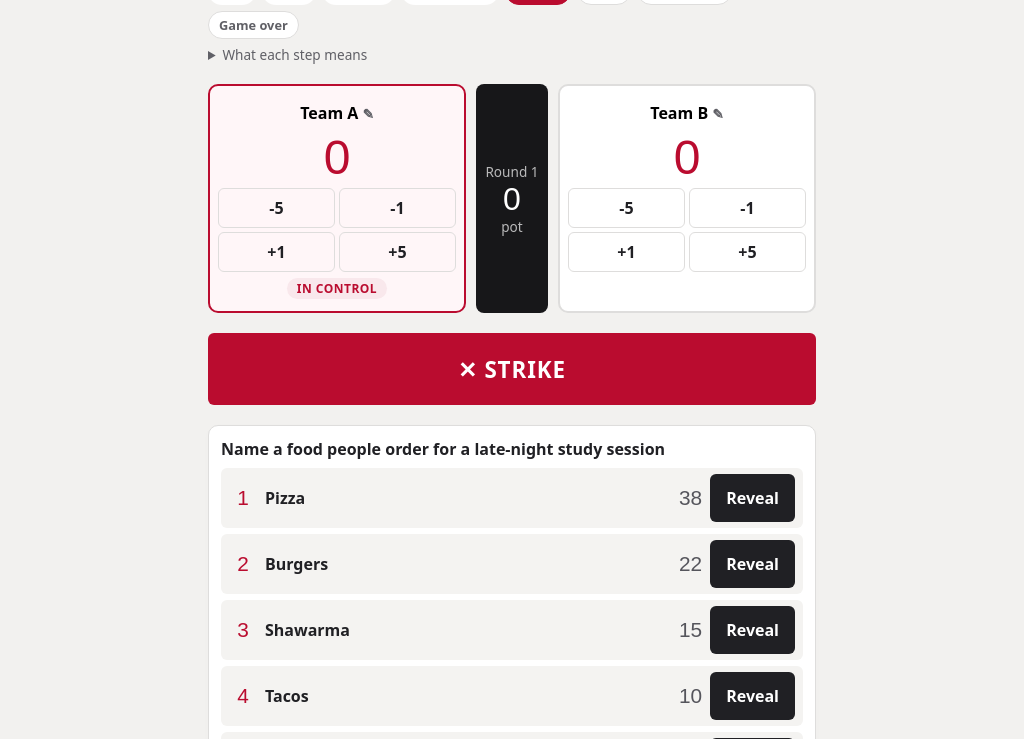
Test: HostPage › shows a toast when the server rejects an action
(page scrolled)
Step 1. Click the button "✕ STRIKE" → point(512, 369), box [208,333,816,405]
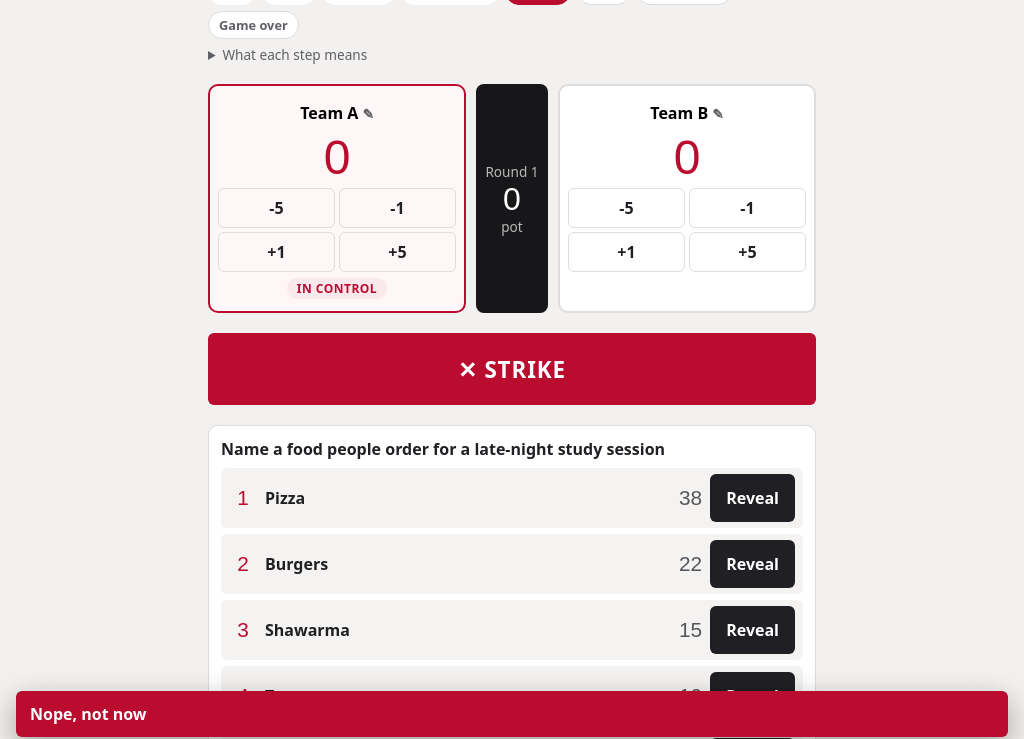
Expected: the message reads "Nope, not now", [30,703,146,725]
